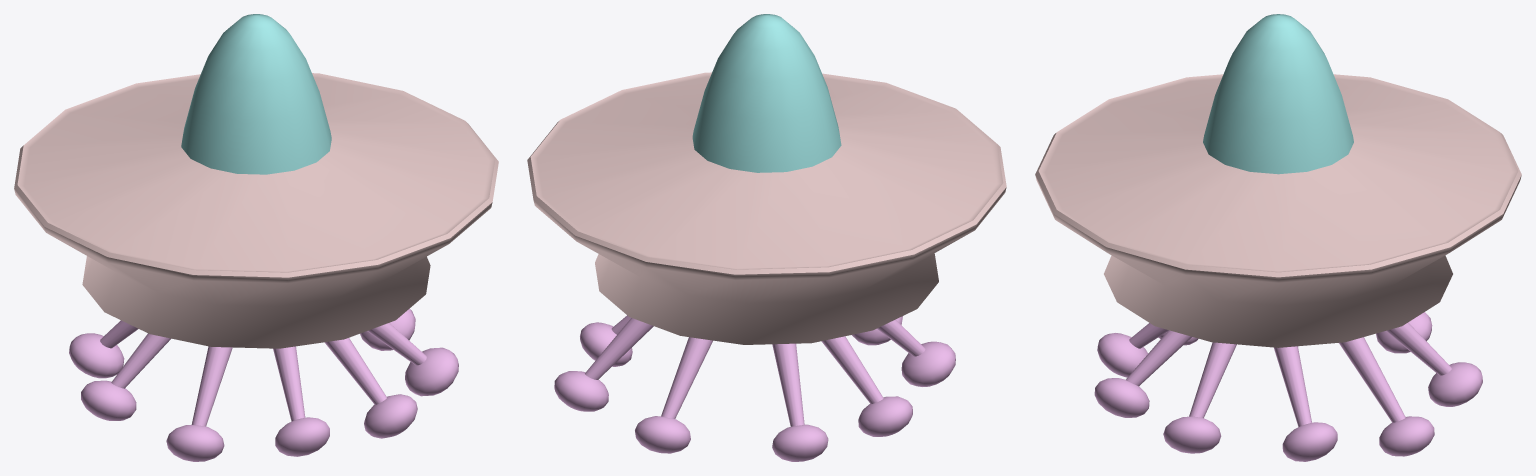
The model's file is Spaceship2.fbx.
The picture shows the model from 3 angles, left to right: view 1: azimuth 30°, elevation 25°; view 2: azimuth 150°, elevation 25°; view 3: azimuth 270°, elevation 25°; orthographic projection.
Visible parts, largest first — view 1: pSphere3, pCylinder9, pSphere2; view 2: pSphere3, pSphere2, pCylinder9; view 3: pSphere3, pCylinder9, pSphere2.
Part boxes in pixels (x1=…): pSphere3: x1=14, y1=73, x2=498, y2=348; pCylinder9: x1=69, y1=308, x2=458, y2=461; pSphere2: x1=181, y1=14, x2=331, y2=174; pSphere3: x1=527, y1=72, x2=1006, y2=344; pSphere2: x1=692, y1=14, x2=841, y2=172; pCylinder9: x1=554, y1=315, x2=955, y2=461; pSphere3: x1=1035, y1=74, x2=1521, y2=347; pCylinder9: x1=1094, y1=312, x2=1482, y2=461; pSphere2: x1=1203, y1=14, x2=1353, y2=174.
Bounding box in the file's own units: 0.021 × 0.018 × 0.021.
